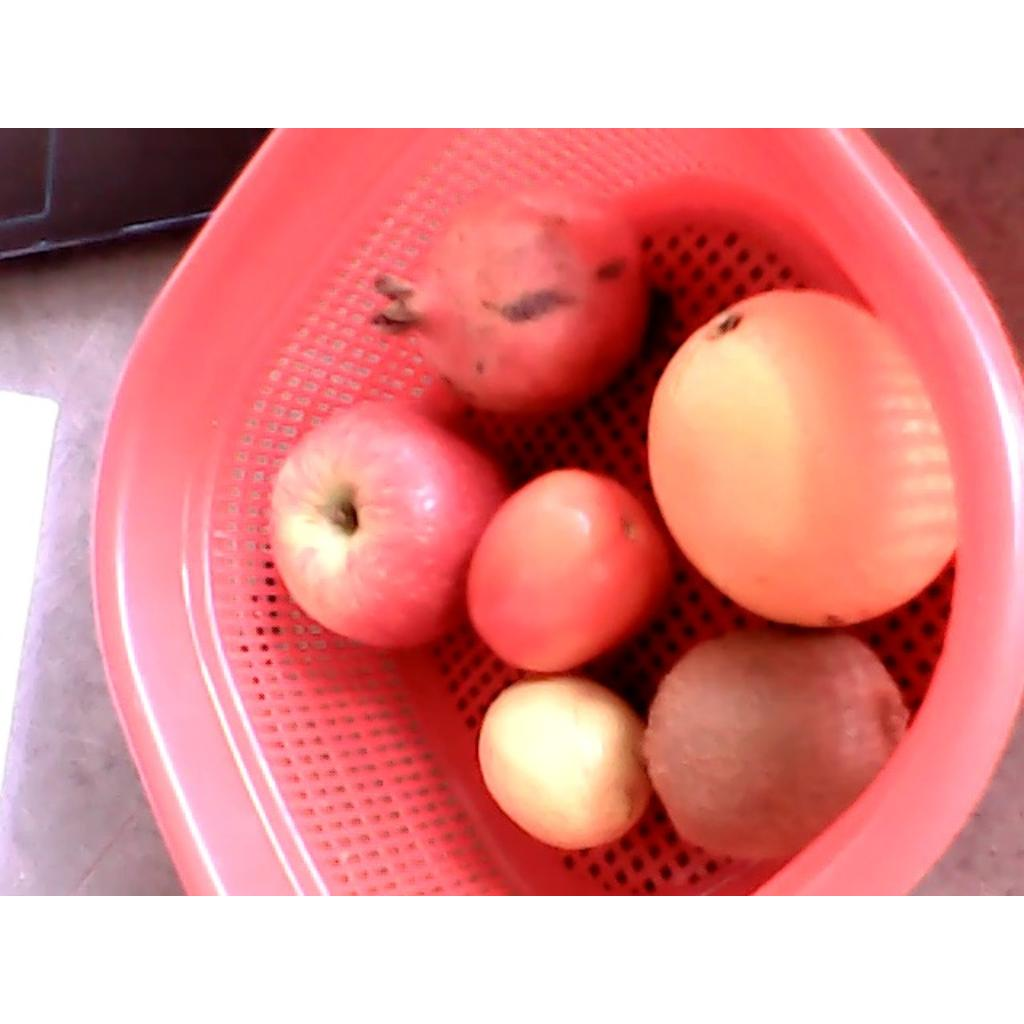apple: (266, 401, 512, 656)
kiwi: (637, 628, 910, 863)
lemon: (478, 676, 651, 851)
orange: (647, 287, 957, 626)
pomegranate: (372, 180, 652, 413)
tomato: (469, 468, 670, 673)
